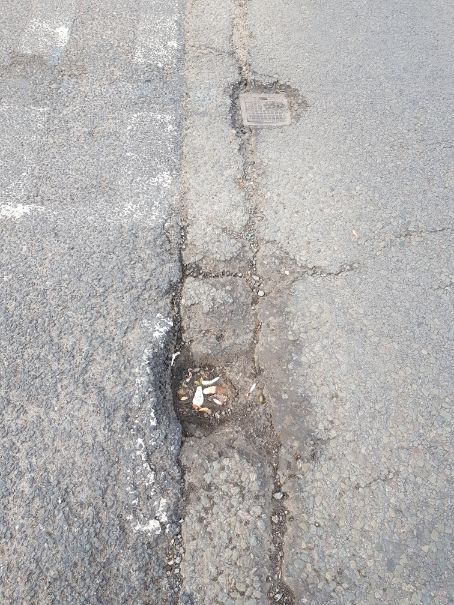pothole: (147, 238, 334, 478)
